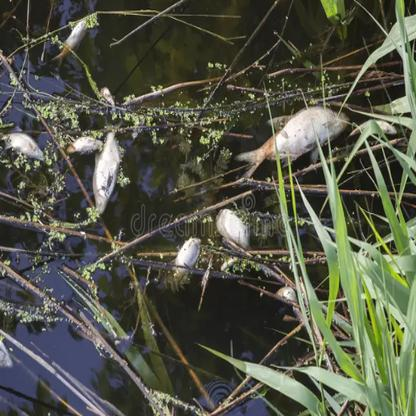deceased fish: (235, 105, 351, 171), (88, 129, 118, 220), (209, 204, 255, 252), (176, 235, 206, 284), (2, 129, 44, 163), (60, 16, 91, 55)
